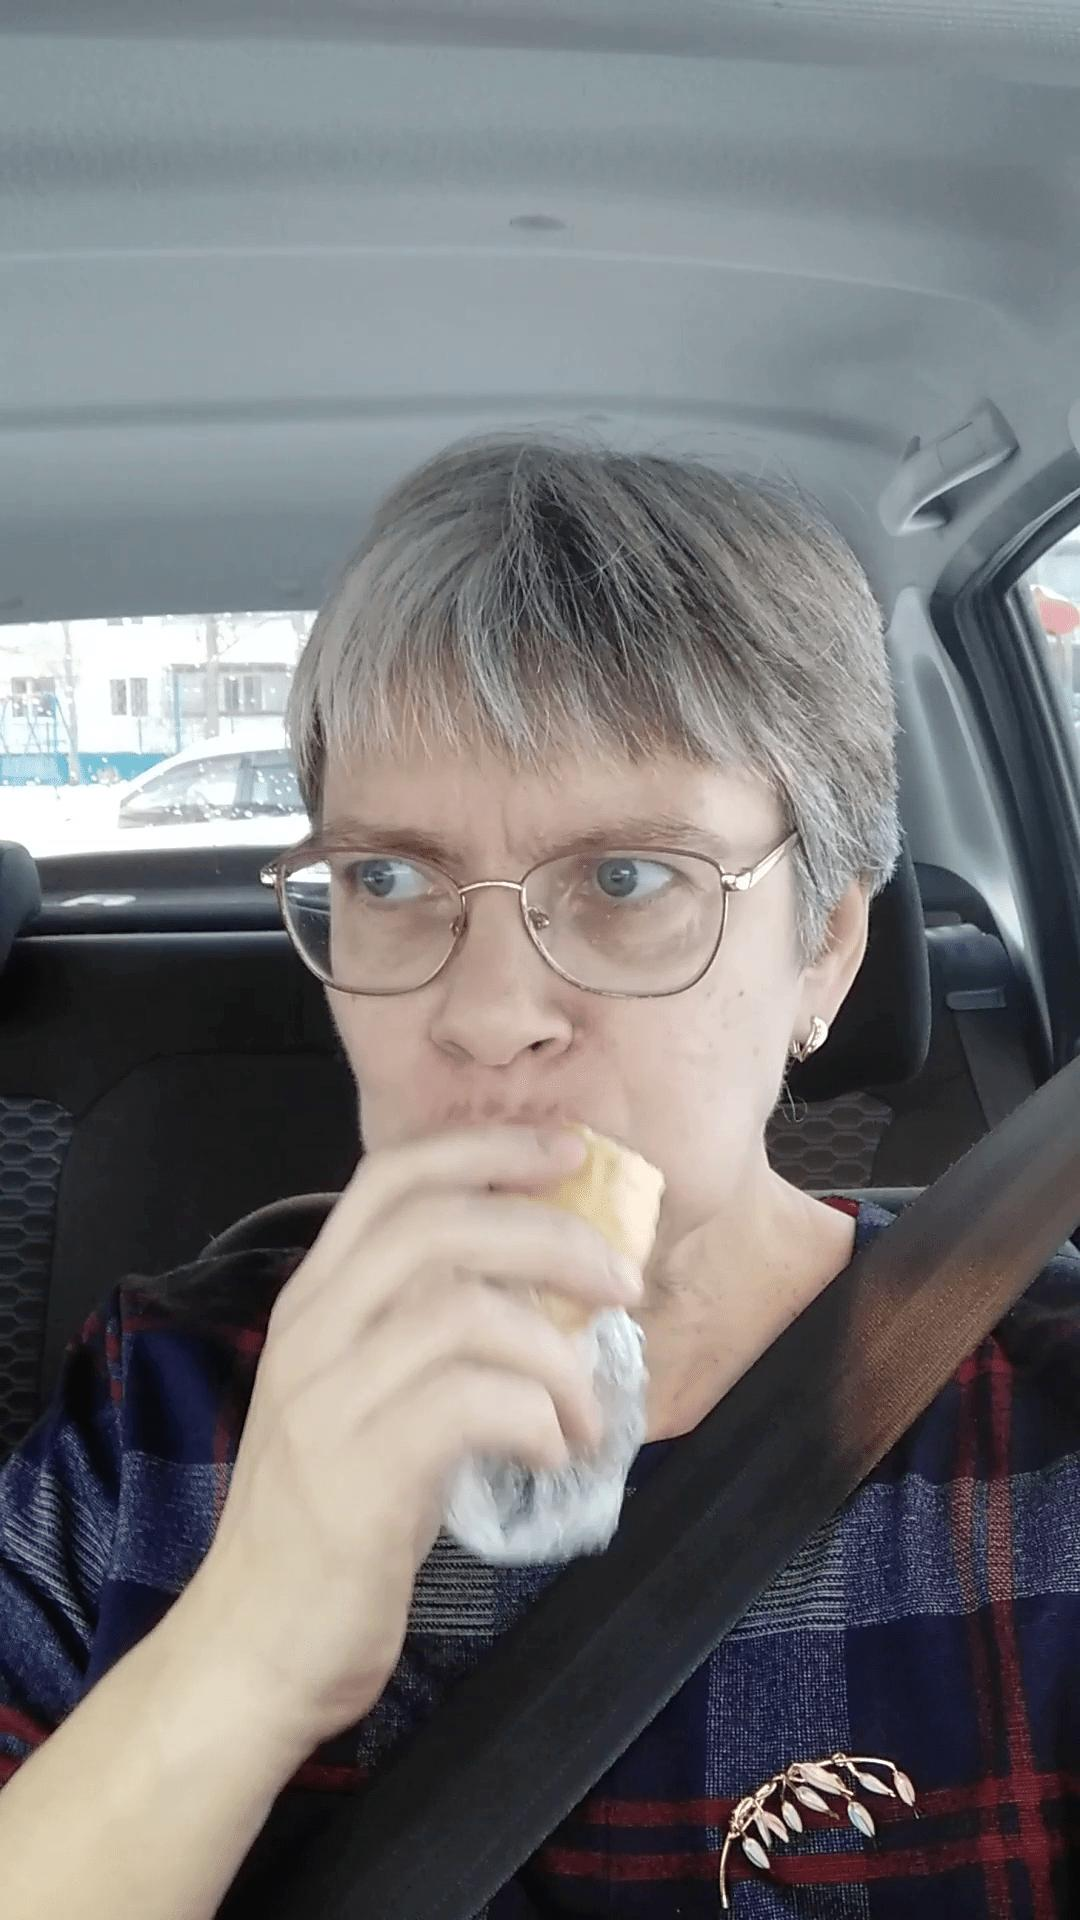Eating: (421, 1077, 686, 1572)
